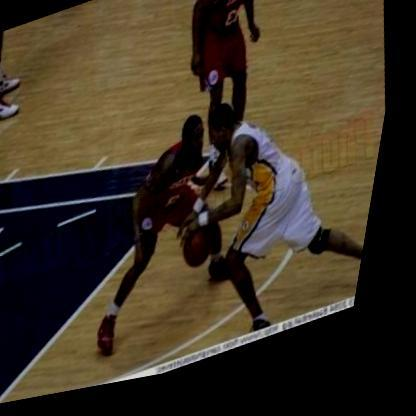basketball: (179, 216, 238, 291)
